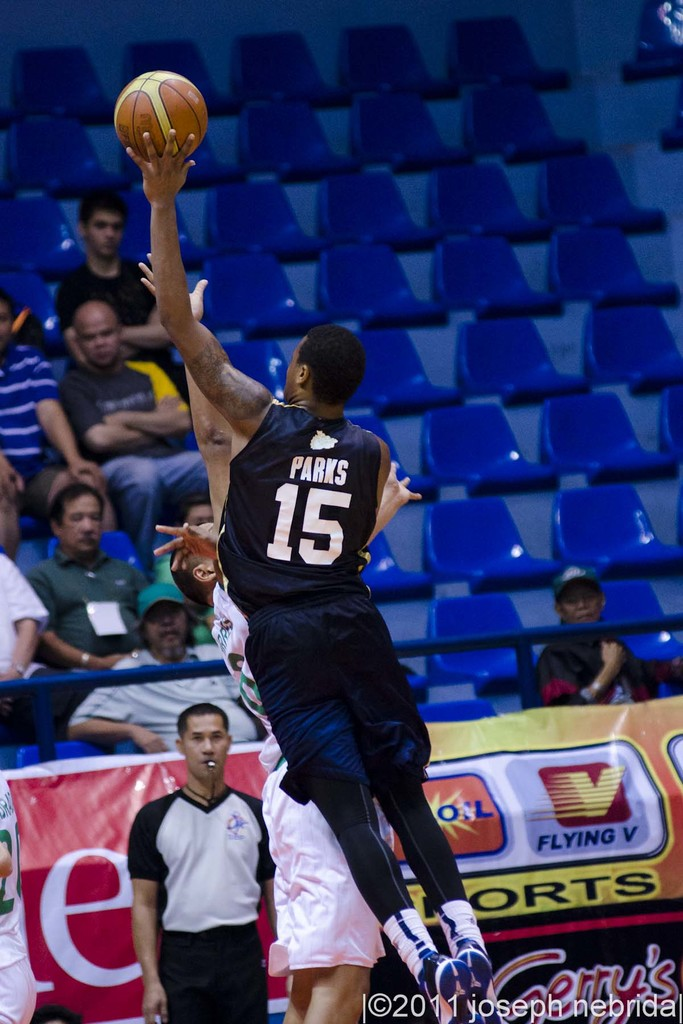Ball: (113, 72, 211, 163)
